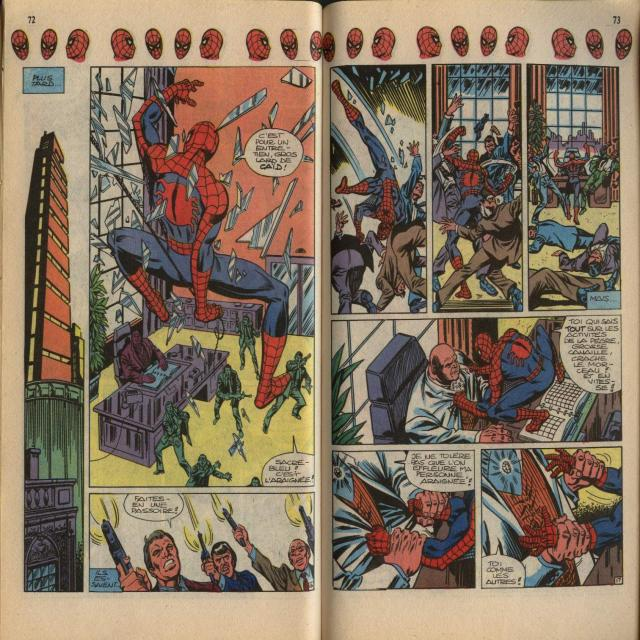comic_panel: (88, 64, 317, 490), (330, 313, 624, 447), (21, 65, 88, 595), (328, 62, 430, 315), (526, 60, 623, 312), (431, 59, 525, 314), (86, 490, 316, 594), (478, 445, 625, 593), (330, 447, 478, 593)
